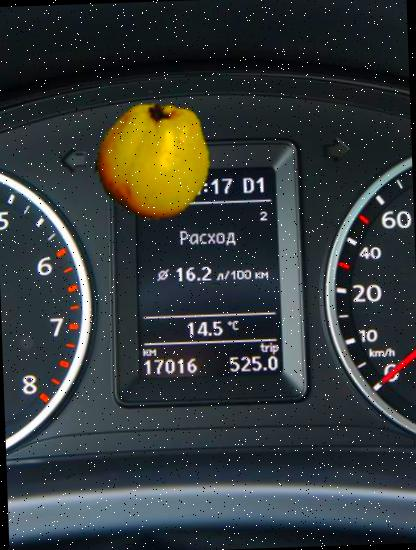Quince: (90, 99, 215, 224)
